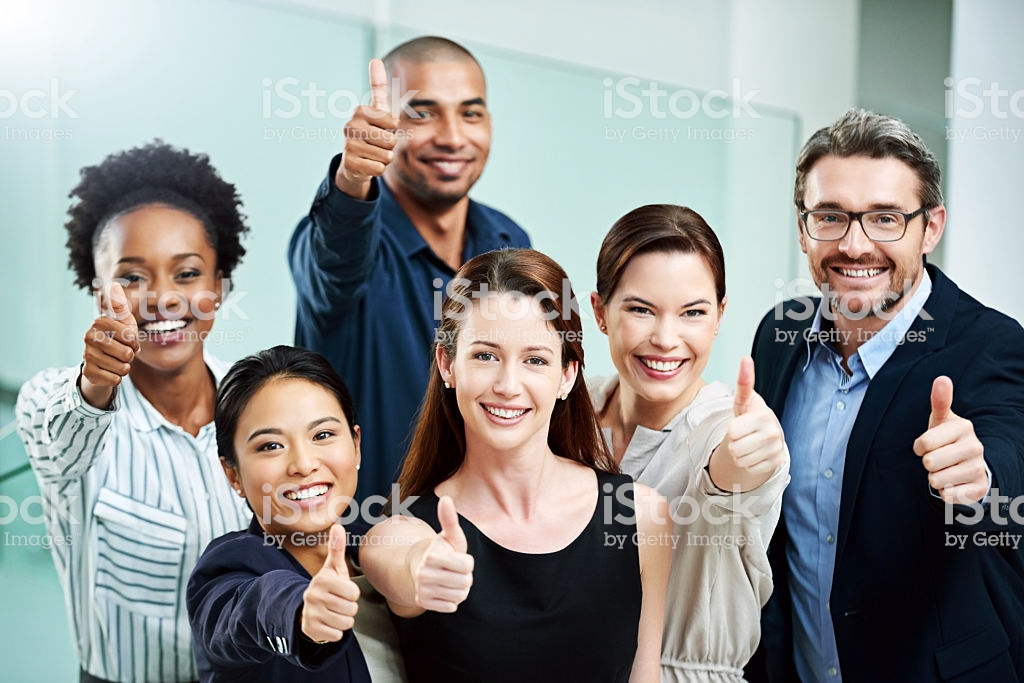thumbsup: (908, 374, 991, 508), (341, 56, 403, 182), (725, 354, 787, 476), (414, 495, 475, 617), (302, 522, 362, 646), (82, 280, 142, 388)
